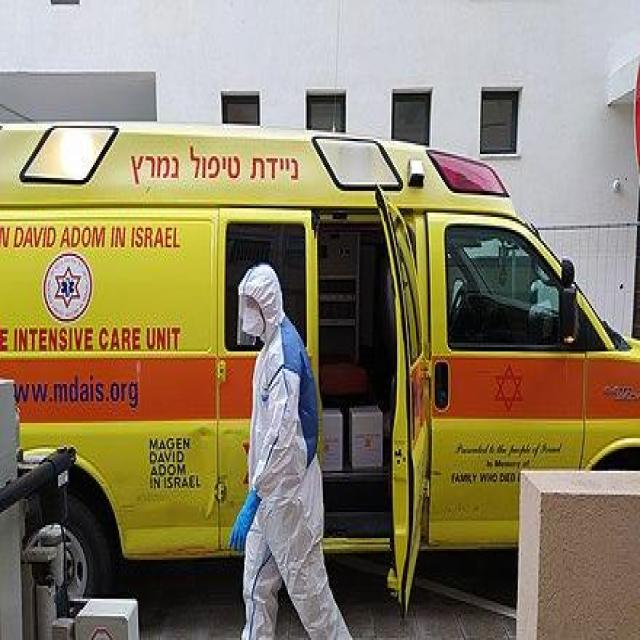Coverall: (234, 260, 352, 640)
Gloves: (225, 486, 262, 558)
Mask: (239, 306, 265, 341)
